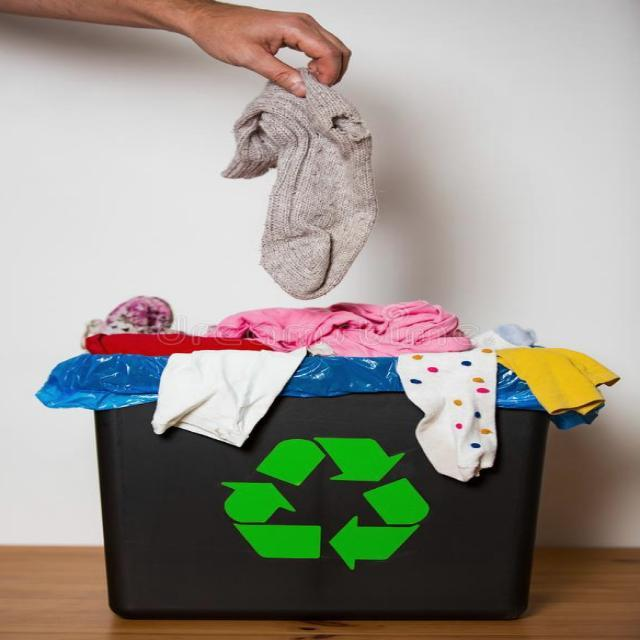clothes: (215, 133, 400, 320)
